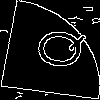Q: (25, 25, 88, 72)
